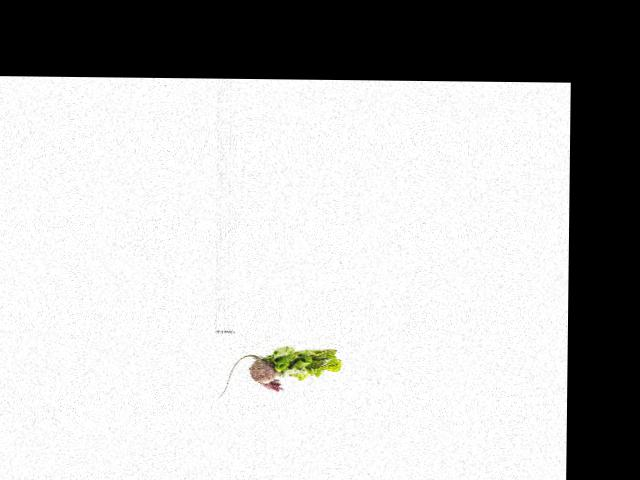beet: (216, 353, 284, 399)
